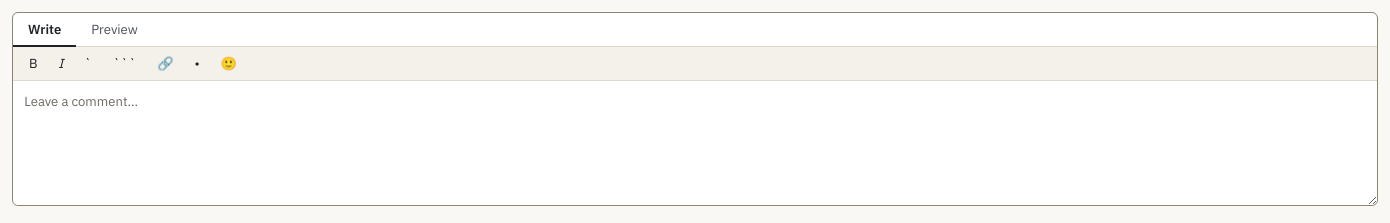
Test: CommentEditor — emoji picker popover › Escape closes the popover and returns focus to the emoji button
The width and height of the screenshot is (1390, 223).
Click the button named "insert emoji" at (229, 64), box x1=212 y1=51 x2=245 y2=76
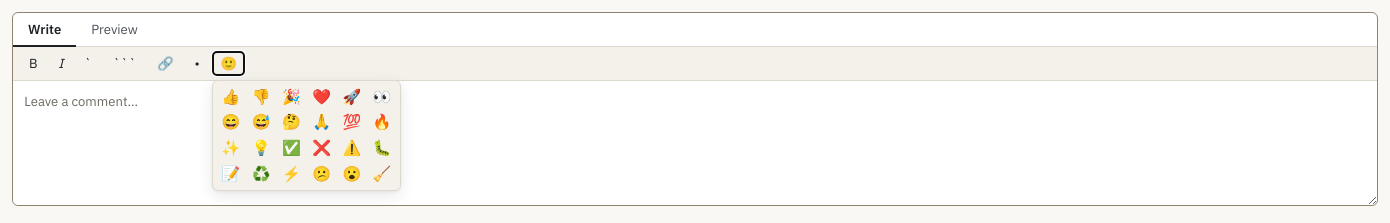
Expected: the element with test id "emoji-picker" is shown, x1=212 y1=80 x2=401 y2=190
Press Escape
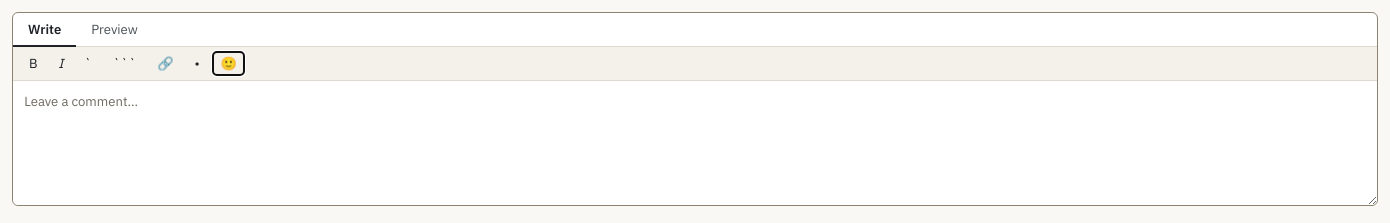
Expected: the element with test id "emoji-picker" is gone
